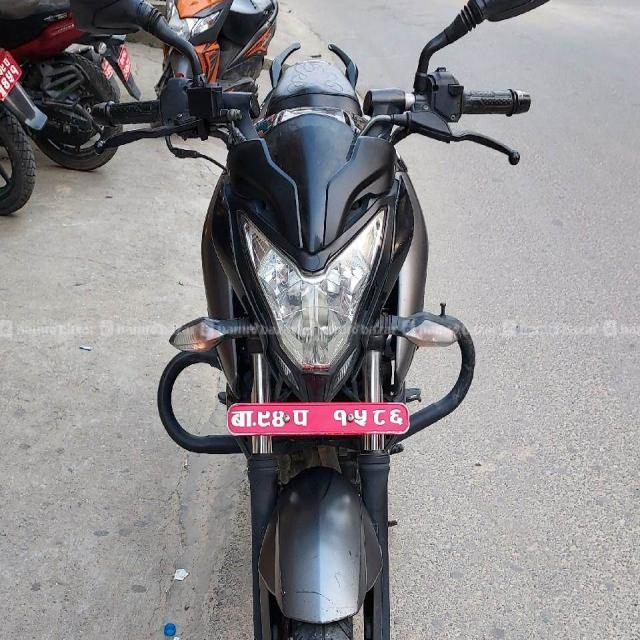License-plate: (228, 398, 409, 437), (0, 50, 27, 103), (116, 45, 137, 82)
